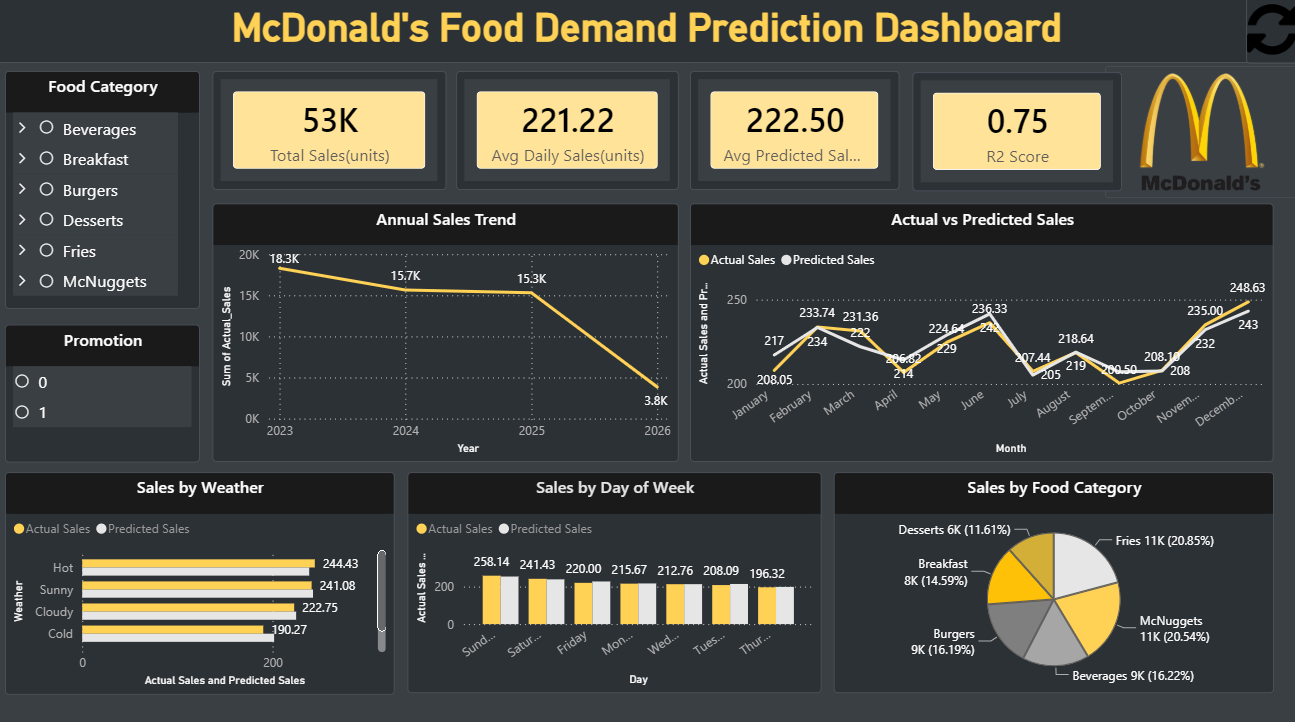

The dashboard page shown, as its layout file describes it:
{"tool":"powerbi","page":{"name":"Page 1","canvas":[1280,720],"ordinal":0},"visuals":[{"type":"textbox","box":[0,0,1280.2,65.7],"z":0},{"type":"cardVisual","title":"Total Sales","fields":{"Data":["mcdonalds_demand_predictions.Total_Sales"]},"box":[213.8,74.1,229.5,116.9],"z":1000},{"type":"cardVisual","fields":{"Data":["mcdonalds_demand_predictions.Avg_Daily_Sales"]},"box":[453.3,74.1,218.1,116.9],"z":2000},{"type":"cardVisual","fields":{"Data":["mcdonalds_demand_predictions.Avg_Predicted_Sales"]},"box":[682.8,74.1,205.3,116.9],"z":3000},{"type":"lineChart","title":"Annual Sales Trend","fields":{"Category":["mcdonalds_demand_predictions.Date.Variation.Date Hierarchy.Year","mcdonalds_demand_predictions.Date.Variation.Date Hierarchy.Quarter","mcdonalds_demand_predictions.Date.Variation.Date Hierarchy.Month","mcdonalds_demand_predictions.Date.Variation.Date Hierarchy.Day"],"Y":["Sum(mcdonalds_demand_predictions.Actual_Sales)"]},"box":[213.8,203.8,457.6,253.7],"z":4000},{"type":"pieChart","title":"Sales by Food Category","fields":{"Category":["mcdonalds_demand_predictions.Food_Category"],"Y":["Sum(mcdonalds_demand_predictions.Actual_Sales)"]},"box":[823.9,467.5,431.9,216.7],"z":5000},{"type":"clusteredColumnChart","title":"Sales by Day of Week","fields":{"Category":["mcdonalds_demand_predictions.Day_of_Week"],"Y":["Avg(mcdonalds_demand_predictions.Actual_Sales)","mcdonalds_demand_predictions.Avg_Predicted_Sales"]},"box":[404.8,467.5,406.2,216.7],"z":6000},{"type":"clusteredBarChart","title":"Sales by Weather","fields":{"Category":["mcdonalds_demand_predictions.Weather"],"Y":["Avg(mcdonalds_demand_predictions.Actual_Sales)","mcdonalds_demand_predictions.Avg_Predicted_Sales"]},"box":[10,467.5,382,218.1],"z":7000},{"type":"lineChart","title":"Actual vs Predicted Sales","fields":{"Category":["mcdonalds_demand_predictions.Date.Variation.Date Hierarchy.Year","mcdonalds_demand_predictions.Date.Variation.Date Hierarchy.Quarter","mcdonalds_demand_predictions.Date.Variation.Date Hierarchy.Month","mcdonalds_demand_predictions.Date.Variation.Date Hierarchy.Day"],"Y":["Avg(mcdonalds_demand_predictions.Actual_Sales)","mcdonalds_demand_predictions.Avg_Predicted_Sales"]},"box":[682.8,203.8,573,253.7],"z":8000},{"type":"listSlicer","fields":{"Values":["mcdonalds_demand_predictions.Promotion"]},"box":[10,322.1,191,135.4],"z":9000},{"type":"listSlicer","title":"Food Category","fields":{"Values":["mcdonalds_demand_predictions.Food_Category","mcdonalds_demand_predictions.Weather","mcdonalds_demand_predictions.Day_of_Week"]},"box":[10,74.1,191,233.8],"z":10000},{"type":"image","box":[1228.2,0,51.5,66.3],"z":11000},{"type":"image","box":[1089.9,68.9,190.4,129.6],"z":12000},{"type":"cardVisual","fields":{"Data":["mcdonalds_demand_predictions.R2 Score"]},"box":[900.8,74.3,205.3,116.9],"z":13000}]}

Visuals, with their boxes in screenshot pixels (x1, y1, x2, y2), scaled from the page's 1280x720 canvas onto the 1295x722 screenshot:
textbox: [0, 0, 1294, 66]
"Total Sales" cardVisual: [216, 74, 448, 192]
cardVisual - mcdonalds_demand_predictions.Avg_Daily_Sales: [459, 74, 679, 192]
cardVisual - mcdonalds_demand_predictions.Avg_Predicted_Sales: [691, 74, 899, 192]
"Annual Sales Trend" lineChart: [216, 204, 679, 459]
"Sales by Food Category" pieChart: [834, 469, 1271, 686]
"Sales by Day of Week" clusteredColumnChart: [410, 469, 821, 686]
"Sales by Weather" clusteredBarChart: [10, 469, 397, 688]
"Actual vs Predicted Sales" lineChart: [691, 204, 1271, 459]
listSlicer - mcdonalds_demand_predictions.Promotion: [10, 323, 203, 459]
"Food Category" listSlicer: [10, 74, 203, 309]
image: [1243, 0, 1294, 66]
image: [1103, 69, 1294, 199]
cardVisual - mcdonalds_demand_predictions.R2 Score: [911, 75, 1119, 192]
